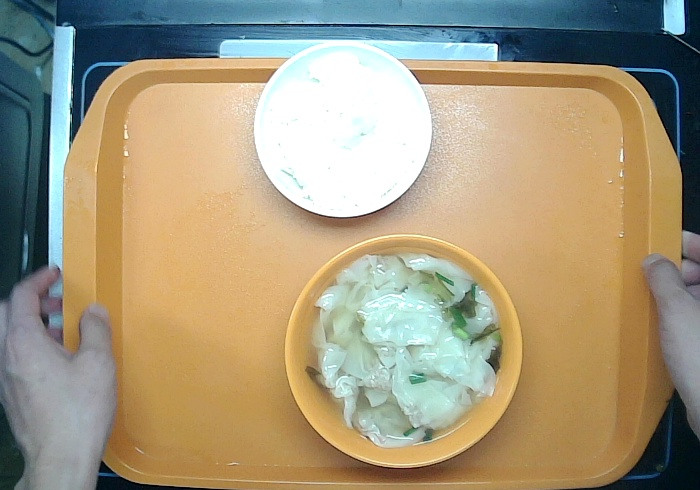NLDX-Fan_Wan: (248, 36, 437, 223)
NLDX-Hun_Tun_Wan: (277, 227, 525, 473)
